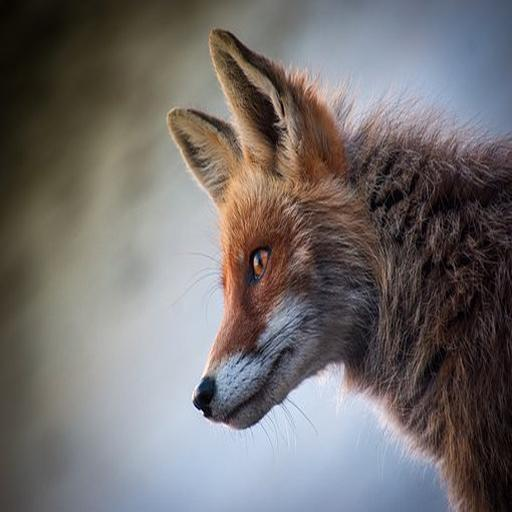Fox: (166, 23, 512, 507)
